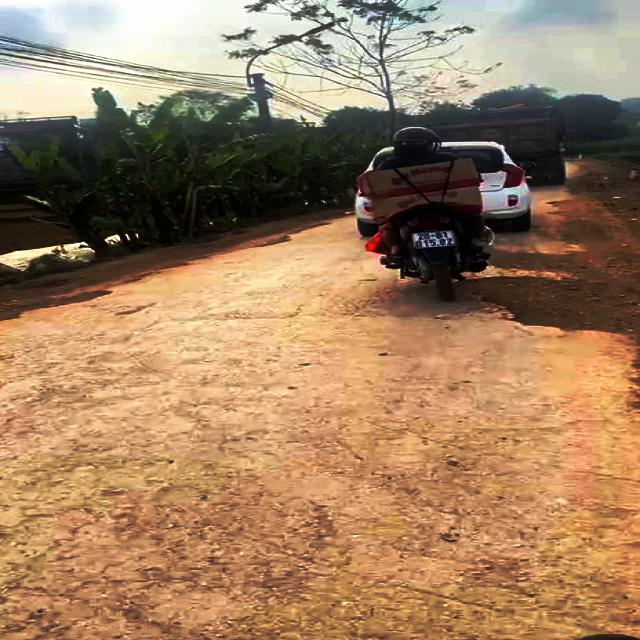pothole: (454, 269, 640, 339)
